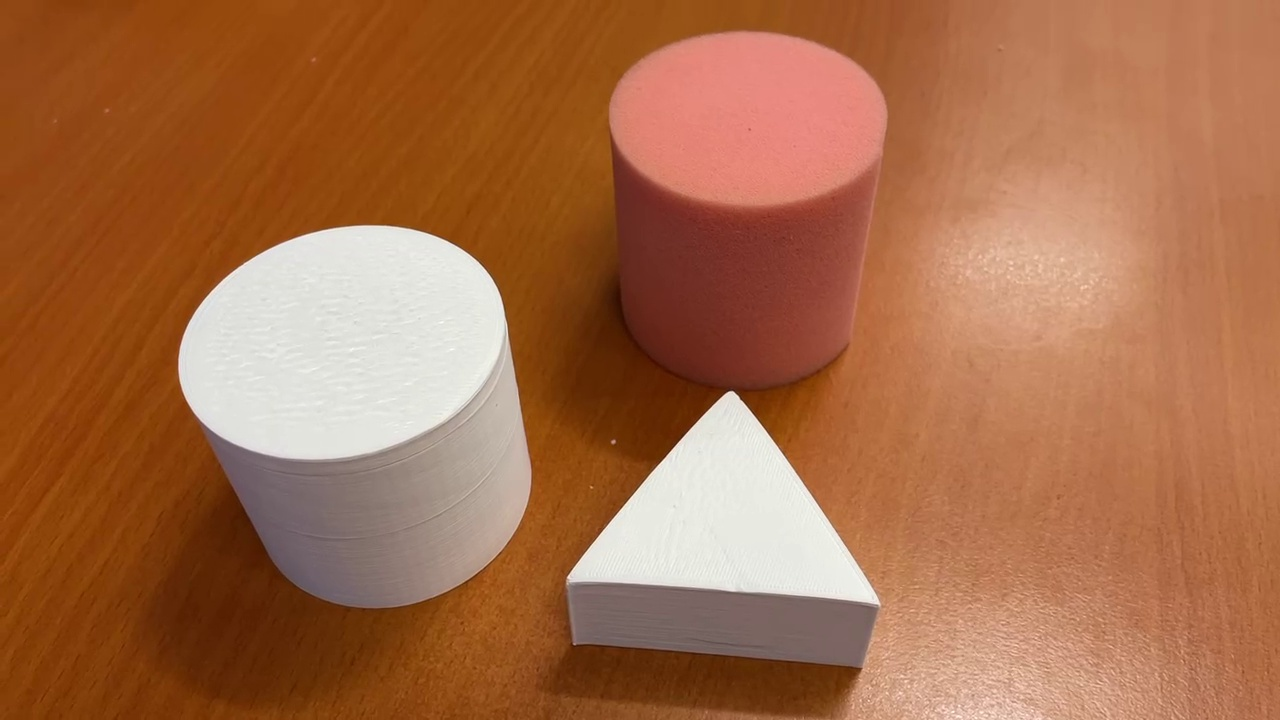Cylinder: (173, 216, 540, 618), (601, 26, 893, 398)
Triangle_short: (554, 386, 884, 678)
